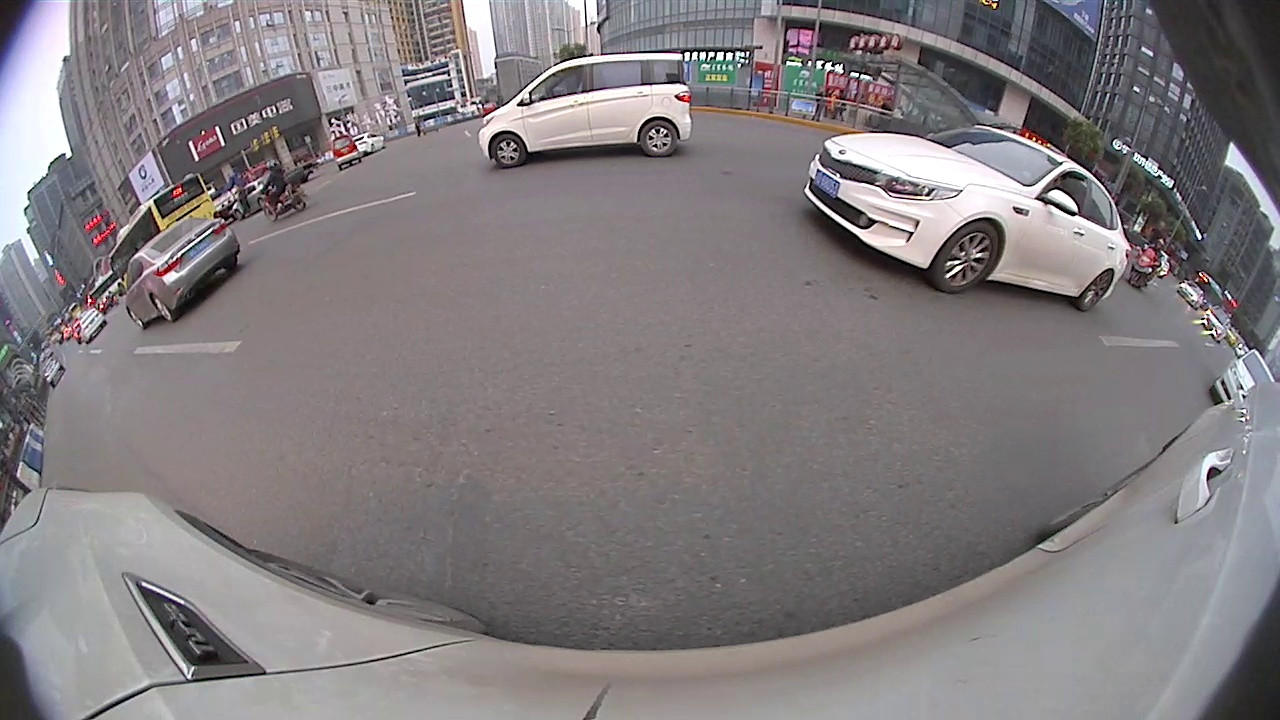bus: (103, 174, 222, 284)
car: (802, 130, 1130, 316), (470, 41, 692, 169), (118, 217, 244, 330), (1208, 347, 1277, 413), (79, 308, 106, 344)
front: (928, 220, 1002, 295), (489, 132, 528, 171), (127, 309, 148, 331)
rear: (1072, 266, 1114, 314), (638, 118, 680, 161), (149, 292, 178, 325)
rider: (252, 160, 310, 226), (1127, 233, 1169, 290)
